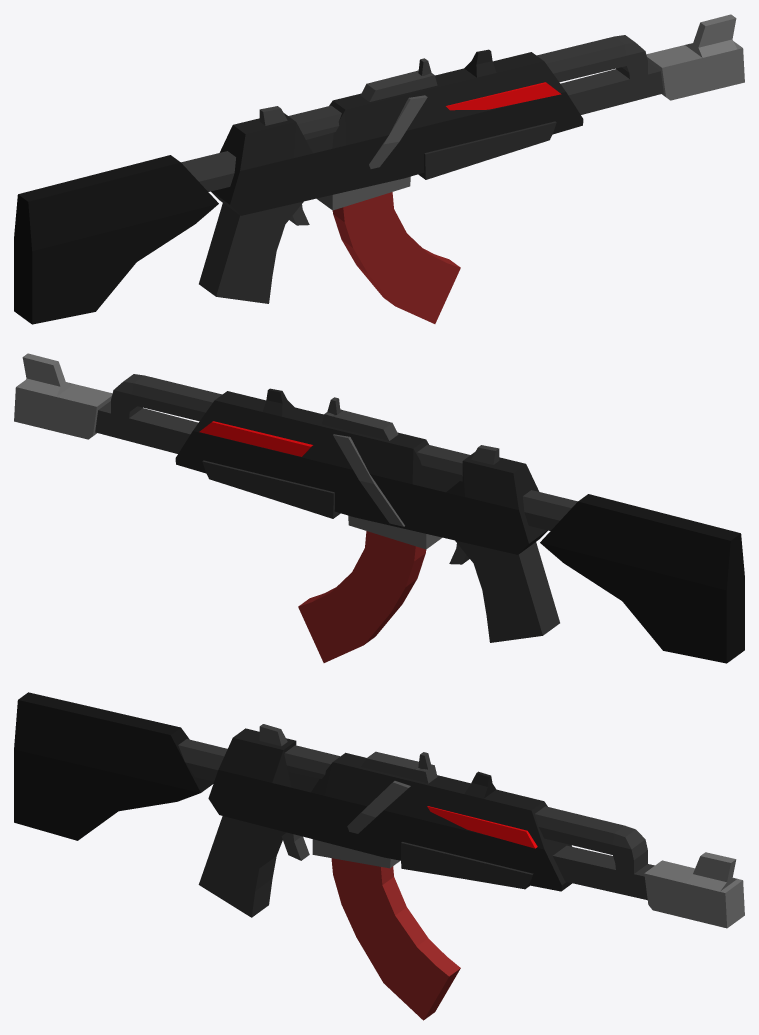
The model's file is ScifiRifle.fbx.
3 renders of one model, top to bottom at view 1: azimuth 30°, elevation 25°; view 2: azimuth 150°, elevation 25°; view 3: azimuth 330°, elevation 25°, orthographic.
Visible parts, largest first — view 1: Cube, Cube.002, Cube.005, Cube.006, Cube.003, Cube.007, Cube.011, Cube.001, Cube.012, Cube.008, Cube.004, Cube.013; view 2: Cube, Cube.002, Cube.005, Cube.006, Cube.003, Cube.007, Cube.011, Cube.012, Cube.001, Cube.013, Cube.008, Cube.004; view 3: Cube, Cube.002, Cube.005, Cube.006, Cube.003, Cube.007, Cube.011, Cube.012, Cube.001, Cube.008, Cube.004, Cube.013.
Part boxes in pixels (left/top/right/bottom): Cube: left=211, top=49, right=583, bottom=215; Cube.002: left=14, top=155, right=218, bottom=324; Cube.005: left=332, top=192, right=460, bottom=323; Cube.006: left=288, top=35, right=663, bottom=139; Cube.003: left=199, top=201, right=303, bottom=303; Cube.007: left=646, top=14, right=744, bottom=100; Cube.011: left=418, top=121, right=556, bottom=179; Cube.001: left=181, top=151, right=235, bottom=191; Cube.012: left=446, top=82, right=561, bottom=110; Cube.008: left=360, top=70, right=437, bottom=101; Cube.004: left=317, top=176, right=410, bottom=210; Cube.013: left=369, top=95, right=427, bottom=168; Cube: left=175, top=388, right=547, bottom=554; Cube.002: left=540, top=494, right=744, bottom=663; Cube.005: left=298, top=531, right=426, bottom=662; Cube.006: left=95, top=374, right=470, bottom=481; Cube.003: left=455, top=540, right=559, bottom=642; Cube.007: left=14, top=353, right=112, bottom=439; Cube.011: left=202, top=460, right=340, bottom=518; Cube.012: left=199, top=421, right=312, bottom=456; Cube.001: left=523, top=490, right=577, bottom=530; Cube.013: left=333, top=434, right=404, bottom=526; Cube.008: left=321, top=409, right=398, bottom=440; Cube.004: left=348, top=515, right=441, bottom=549; Cube: left=208, top=728, right=571, bottom=891; Cube.002: left=14, top=692, right=213, bottom=840; Cube.005: left=331, top=858, right=460, bottom=1020; Cube.006: left=284, top=745, right=654, bottom=899; Cube.003: left=198, top=816, right=286, bottom=917; Cube.007: left=644, top=852, right=744, bottom=928; Cube.011: left=401, top=842, right=533, bottom=889; Cube.012: left=427, top=806, right=537, bottom=848; Cube.001: left=178, top=739, right=227, bottom=781; Cube.008: left=361, top=751, right=437, bottom=783; Cube.004: left=312, top=839, right=399, bottom=868; Cube.013: left=347, top=781, right=410, bottom=833.
Bounding box in the file's own units: 66.71 × 23.36 × 4.15.
